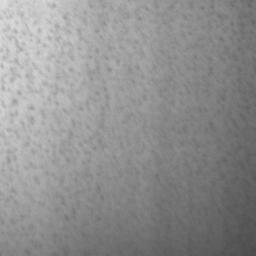Pitted surface: (8, 37, 25, 51), (88, 66, 100, 80)
